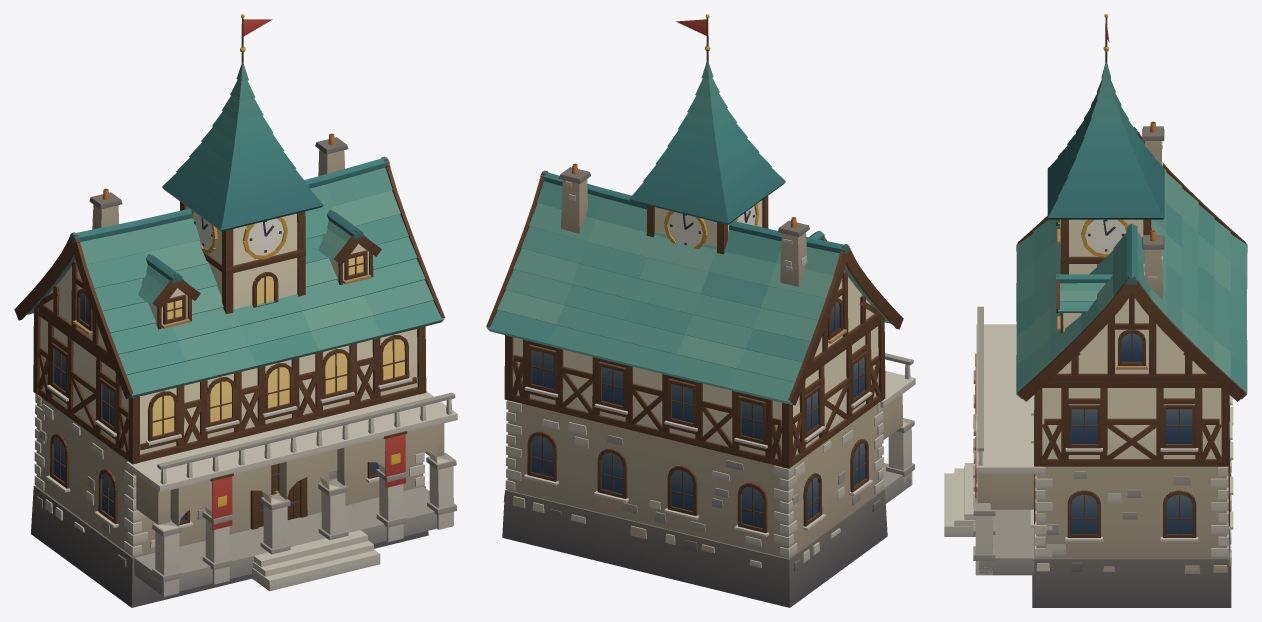
The model's file is lm_town_hall.glb.
3 renders of one model, left to right at view 1: azimuth 30°, elevation 25°; view 2: azimuth 150°, elevation 25°; view 3: azimuth 270°, elevation 25°, orthographic. The views are drawn at different scales.
Parts seen in each view (by area): view 1: lm_town_hall; view 2: lm_town_hall; view 3: lm_town_hall.
Part boxes in pixels (x1=…): lm_town_hall: x1=14, y1=14, x2=457, y2=607; lm_town_hall: x1=486, y1=14, x2=915, y2=607; lm_town_hall: x1=944, y1=14, x2=1247, y2=607.
Size of the model in its own units: 42.1 by 67.67 by 35.59.
Materials: 1 (1 with a texture image).
